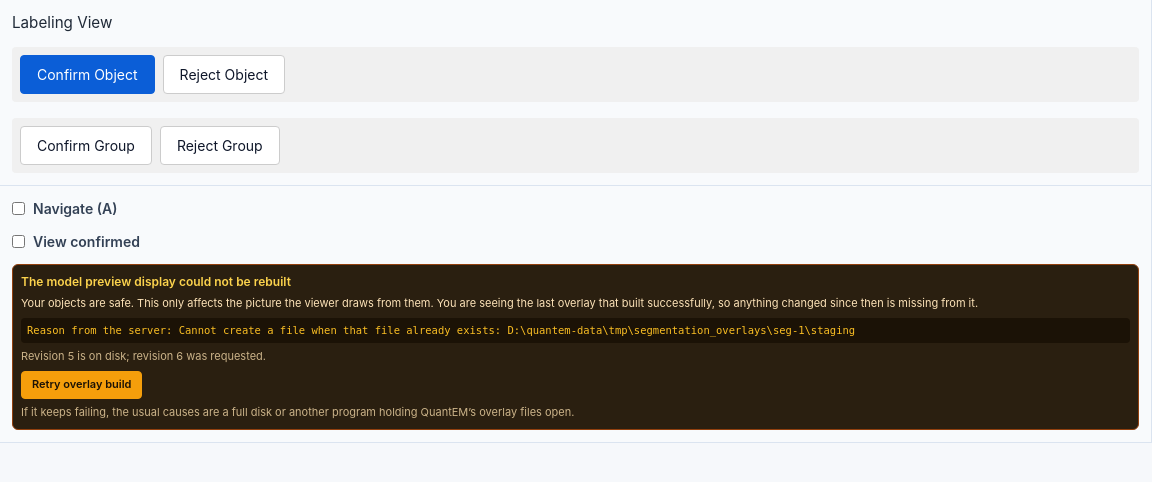
it: SegmentationSidebar, when the overlay build has failed › renders a refused retry rather than going quiet
This screenshot has width=1152, height=482.
Click the button "Retry overlay build". click: (82, 385)
box: [21, 371, 142, 399]
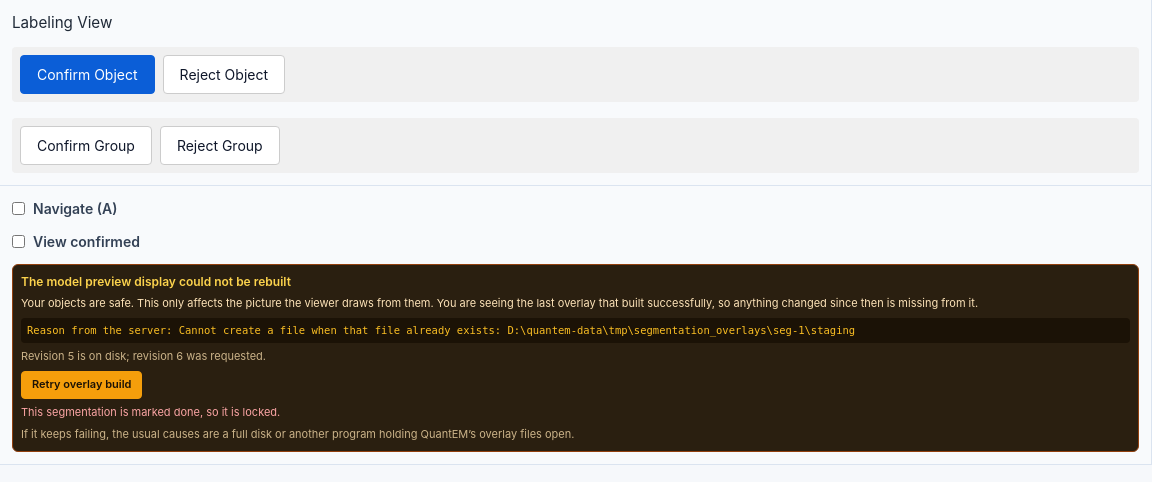
Check: the text "This segmentation is marked done, so it is locked." is shown, box [21, 405, 280, 419]
